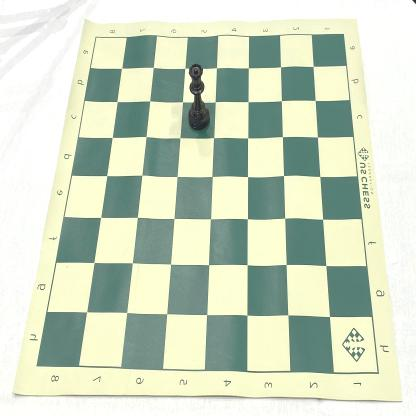black-queen: (187, 62, 211, 132)
